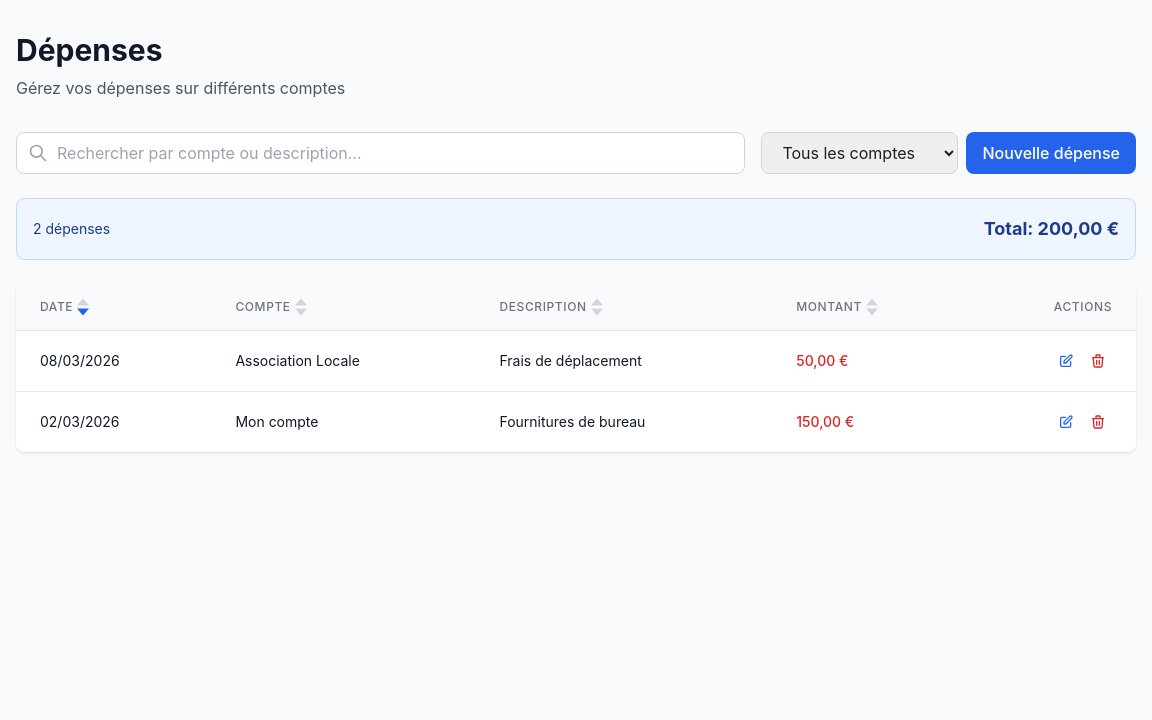
Test: Depenses page › opens the delete modal showing depense details
Note: Click a "Supprimer" button — both mobile and desktop are in the DOM
What coordinates should you click on to do the following:
click the button named "Supprimer" in the row of "08/03/2026"
I would click on:
 (1098, 361)
Its box is [1084,347,1112,375].
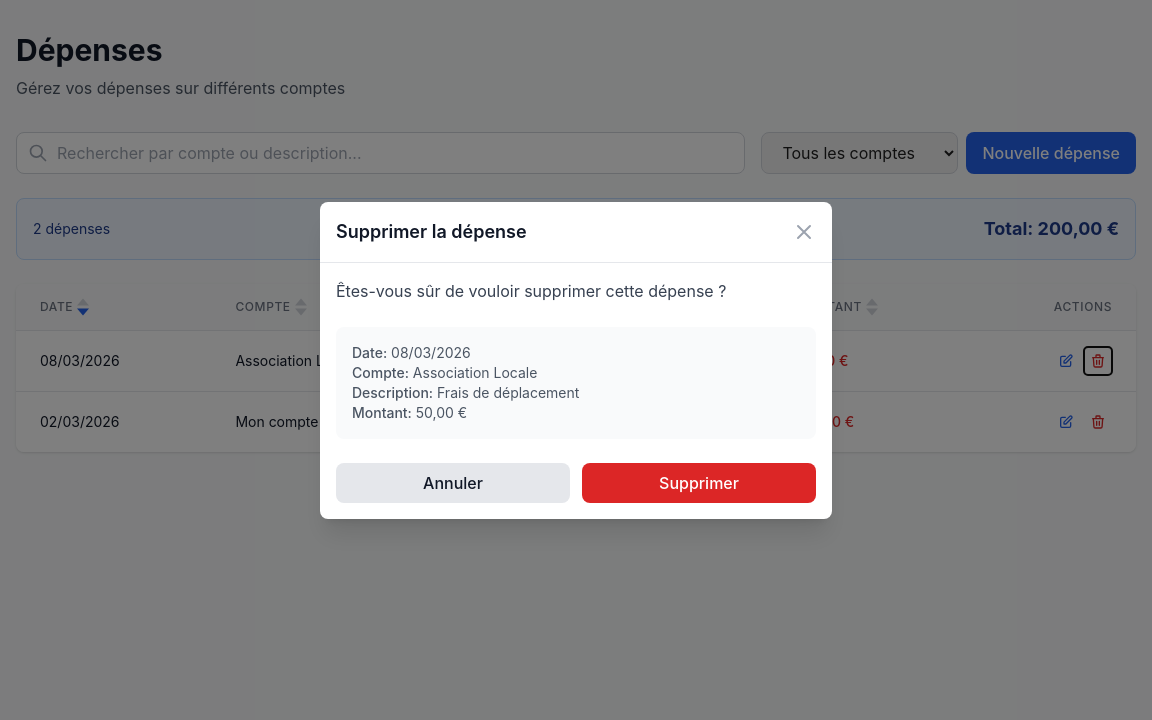
Result: the heading "Supprimer la dépense" is shown at [336,218,527,246]
Result: the text "Date:" is shown at [352,344,387,360]
Result: the text "Compte:" is shown at [352,364,409,380]
